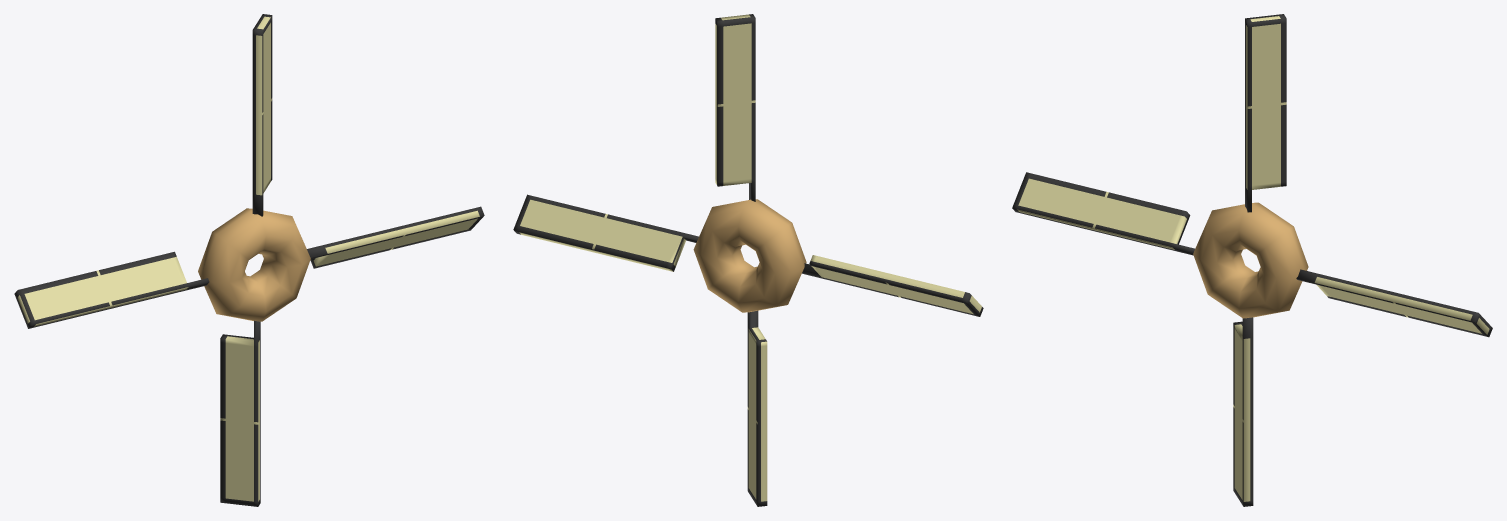
Rendered from prop.fbx.
The picture shows the model from 3 angles, left to right: view 1: azimuth 30°, elevation 25°; view 2: azimuth 150°, elevation 25°; view 3: azimuth 330°, elevation 25°; orthographic projection. The views are drawn at different scales.
Parts seen in each view (by area): view 1: Prop; view 2: Prop; view 3: Prop.
Part boxes in pixels (x1,y1,x2,y2): Prop: (14, 14, 484, 506); Prop: (513, 14, 983, 506); Prop: (1012, 14, 1492, 506).
Size of the model in its own units: 295 by 296 by 26.76.
